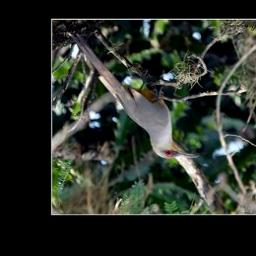Cuckoo: (67, 30, 201, 161)
